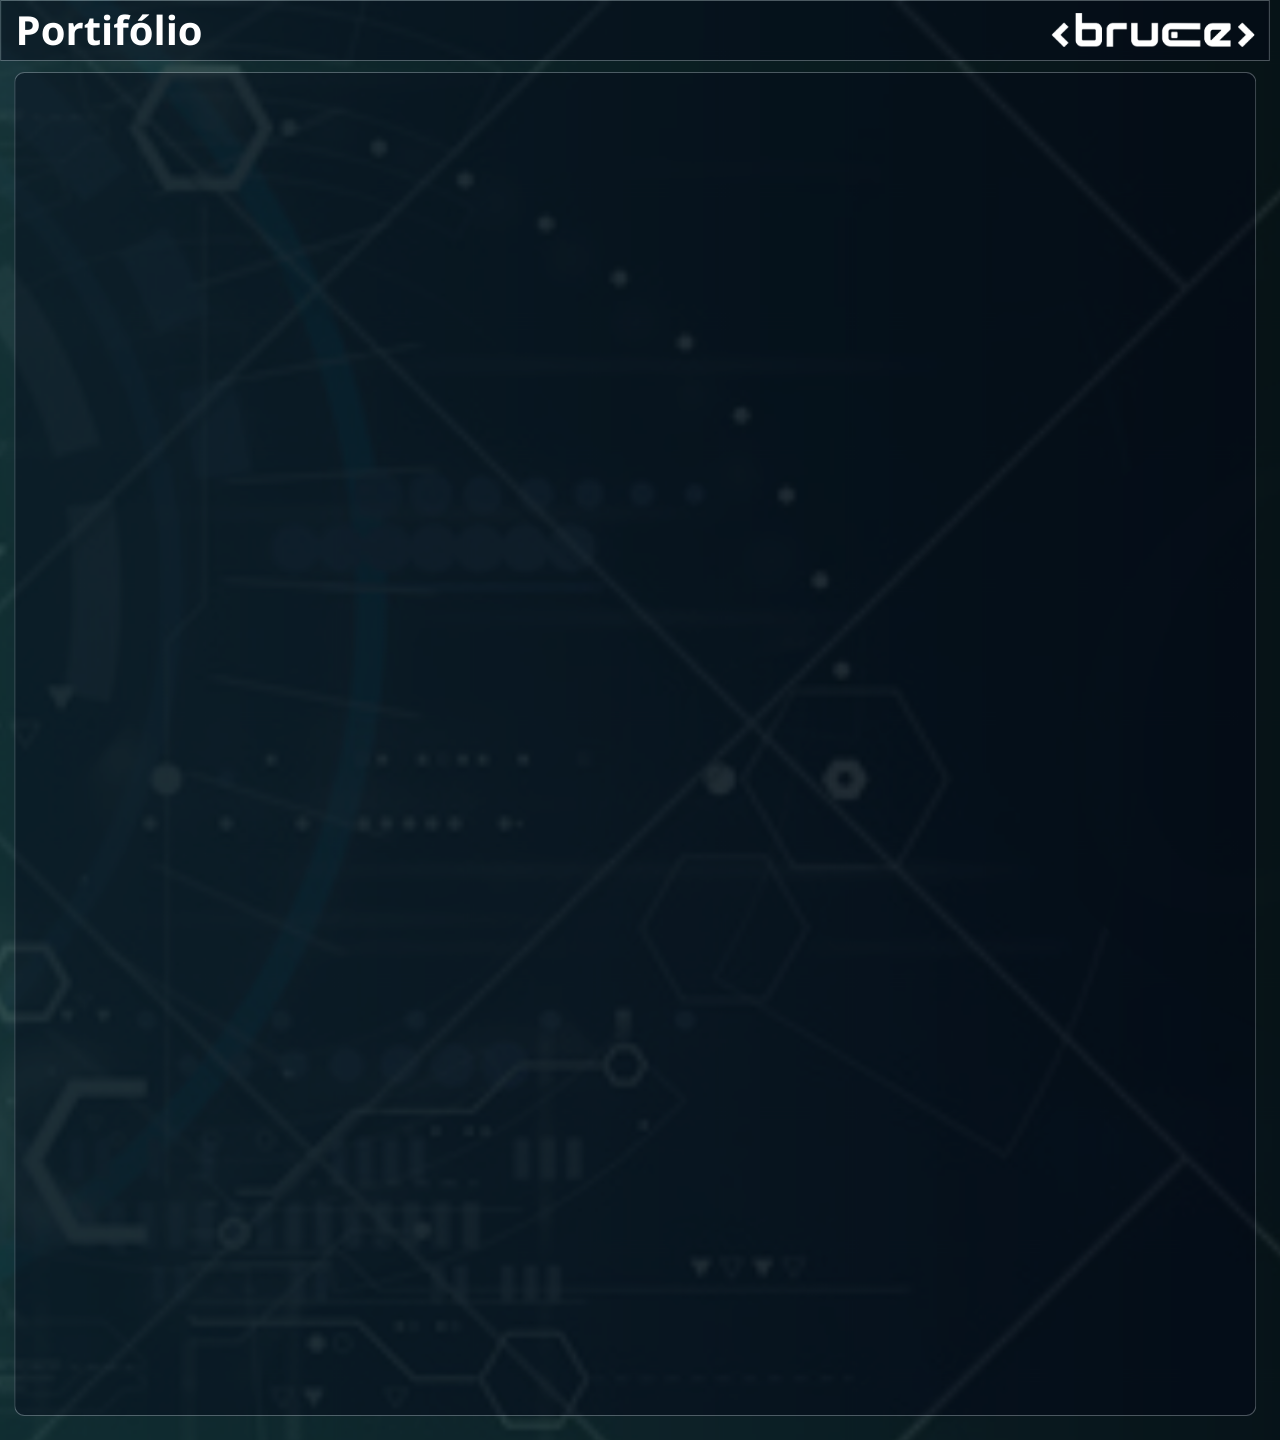

What the dashboard file says about the page in this screenshot:
{"tool":"powerbi","page":{"name":"Página 1","canvas":[1280,720],"ordinal":0},"visuals":[{"type":"textbox","box":[31.9,426.5,608.3,275.8],"z":0},{"type":"textbox","box":[325.4,117.9,314.8,287.3],"z":1},{"type":"image","box":[665,86,615.4,595],"z":2}]}

Visuals, with their boxes on the page's 1280x720 design canvas (x1, y1, x2, y2). These are canvas units, not pixel positions in the 1280x1440 screenshot, which may show the page scaled, cropped or inside an application window:
textbox: 32,426,640,702
textbox: 325,118,640,405
image: 665,86,1280,681
